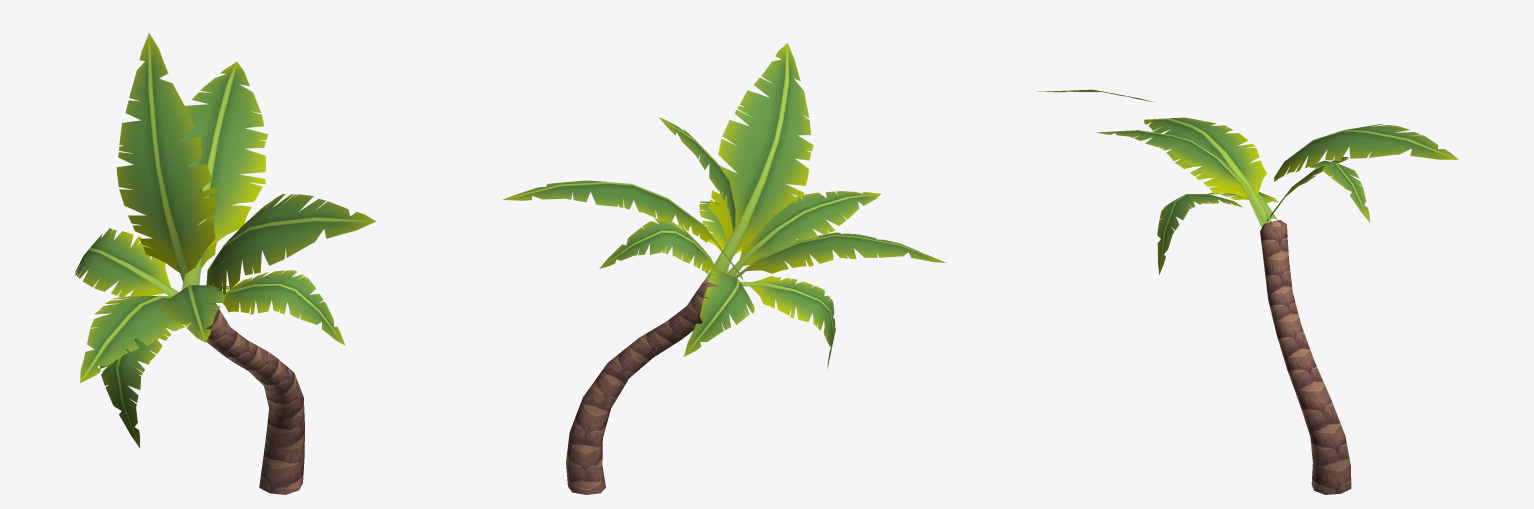
Rendered from BendTree.glb.
3 renders of one model, left to right at view 1: azimuth 30°, elevation 25°; view 2: azimuth 150°, elevation 25°; view 3: azimuth 270°, elevation 25°, orthographic. The views are drawn at different scales.
Parts seen in each view (by area): view 1: PalmTree_2; view 2: PalmTree_2; view 3: PalmTree_2.
Part boxes in pixels (x1=…): PalmTree_2: x1=75, y1=33, x2=376, y2=494; PalmTree_2: x1=503, y1=43, x2=945, y2=494; PalmTree_2: x1=1037, y1=89, x2=1458, y2=494.
Size of the model in its own units: 5 by 5.28 by 5.87.
Materials: 2 (2 with a texture image).
